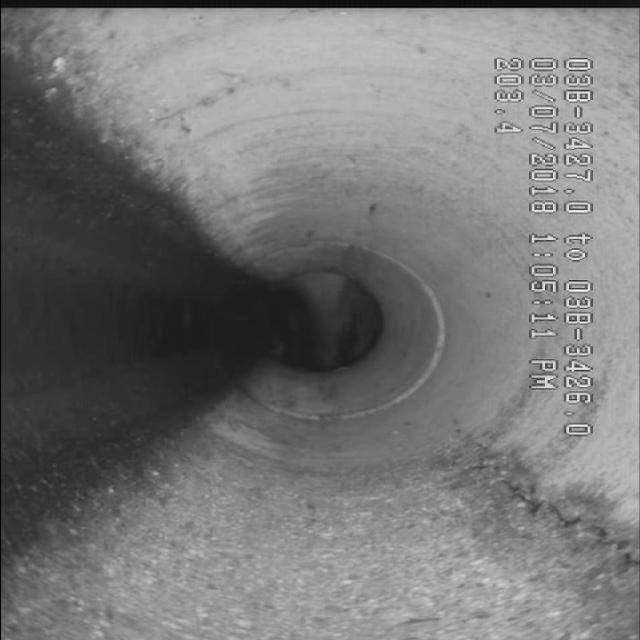Crack: (423, 464, 631, 568)
